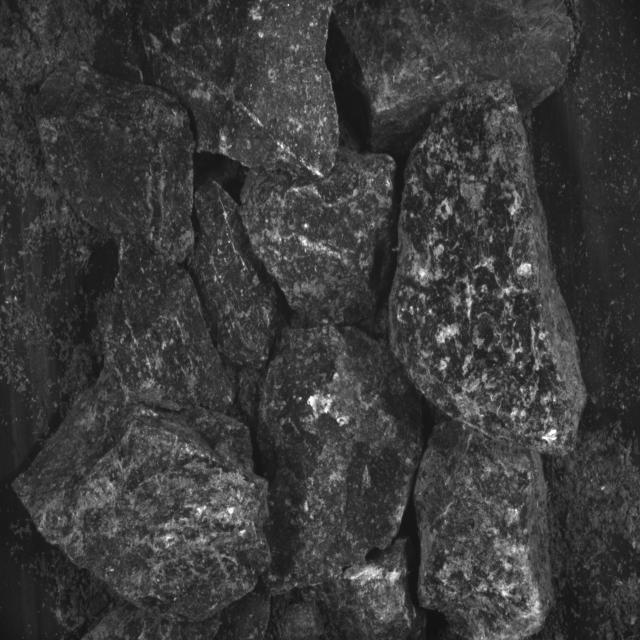Stones: (390, 82, 586, 455), (15, 373, 271, 621), (259, 327, 424, 594), (329, 1, 575, 154), (140, 1, 340, 177), (36, 63, 196, 264), (415, 422, 555, 640), (242, 150, 396, 325), (105, 246, 235, 411), (190, 183, 279, 370), (271, 539, 426, 640), (182, 409, 255, 472)
